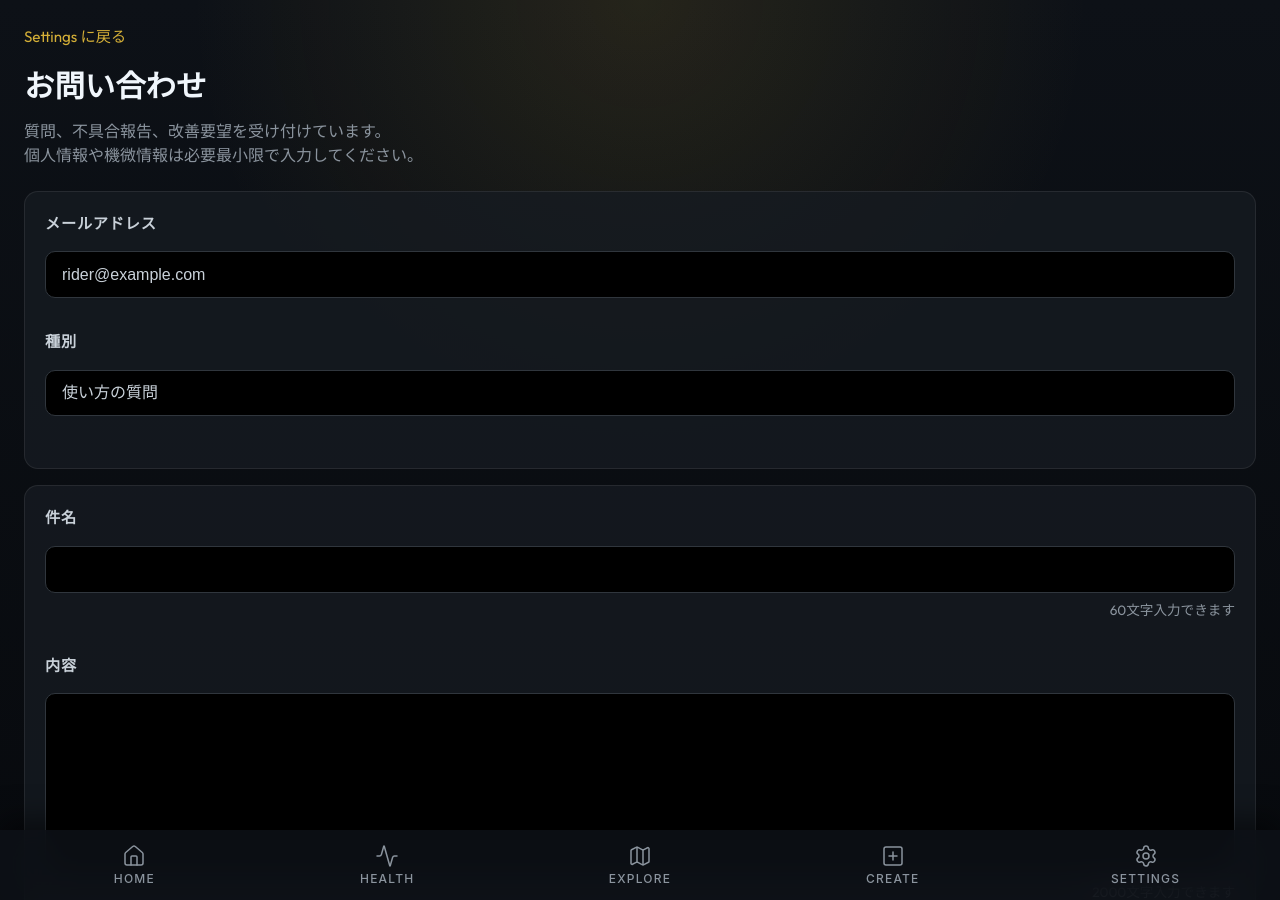
ContactPage › CP-UT-001 必須項目不足時は送信せずエラーを表示する
Clear the field labelled "メールアドレス" at (640, 275), box [45, 251, 1235, 298]
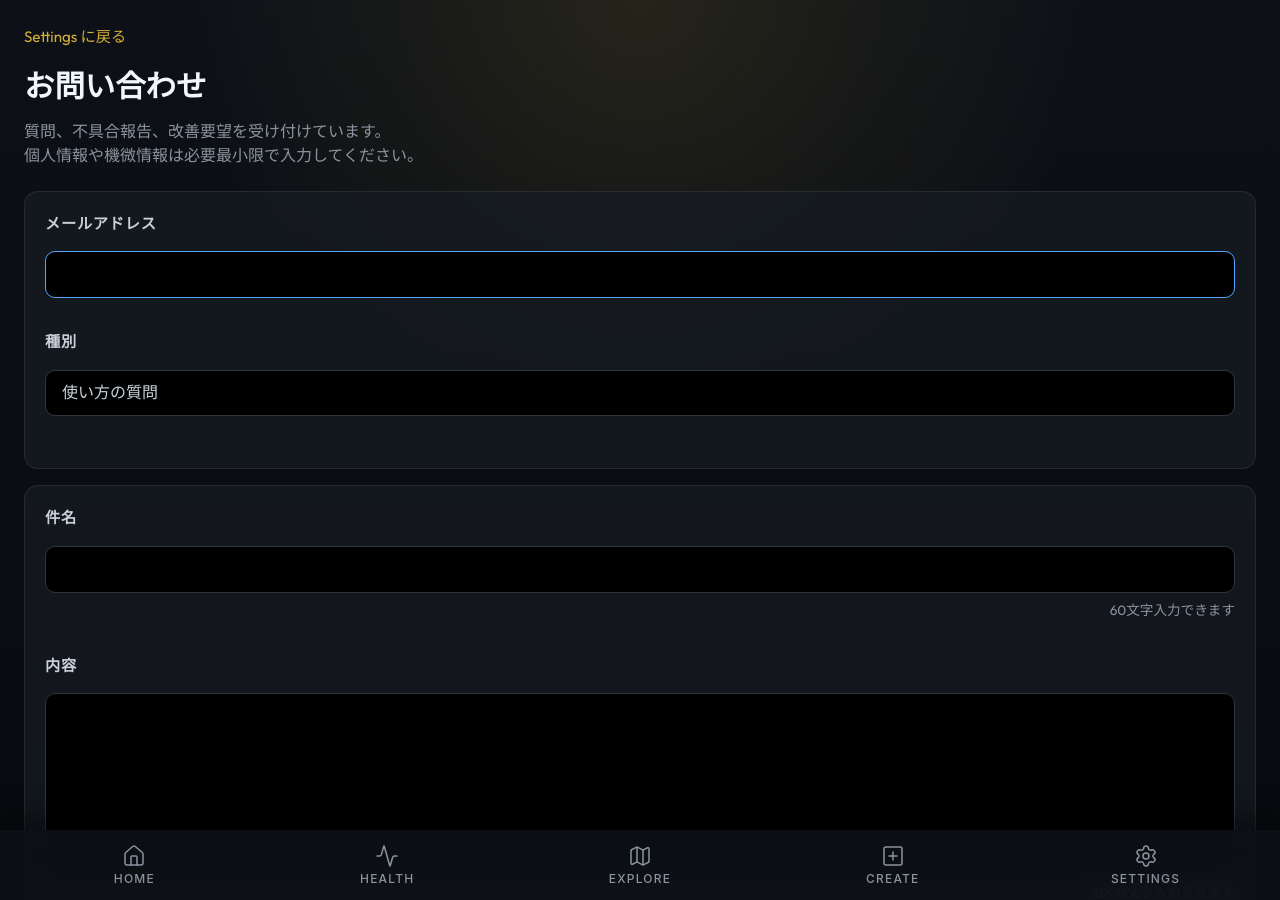
Clear the field labelled "件名" at (640, 569), box [45, 546, 1235, 593]
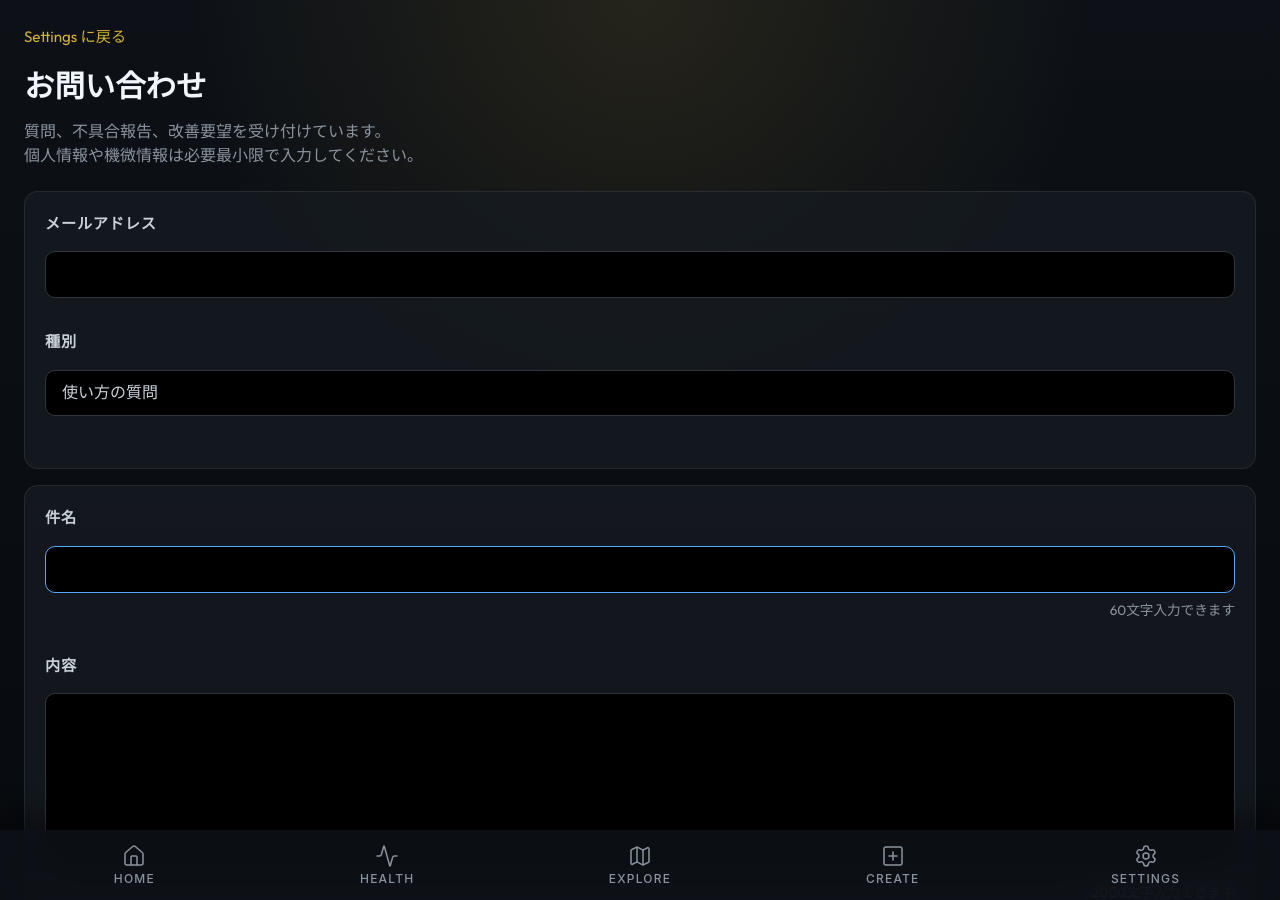
Clear the text box labelled "内容" at (640, 784), box [45, 693, 1235, 874]
(page scrolled)
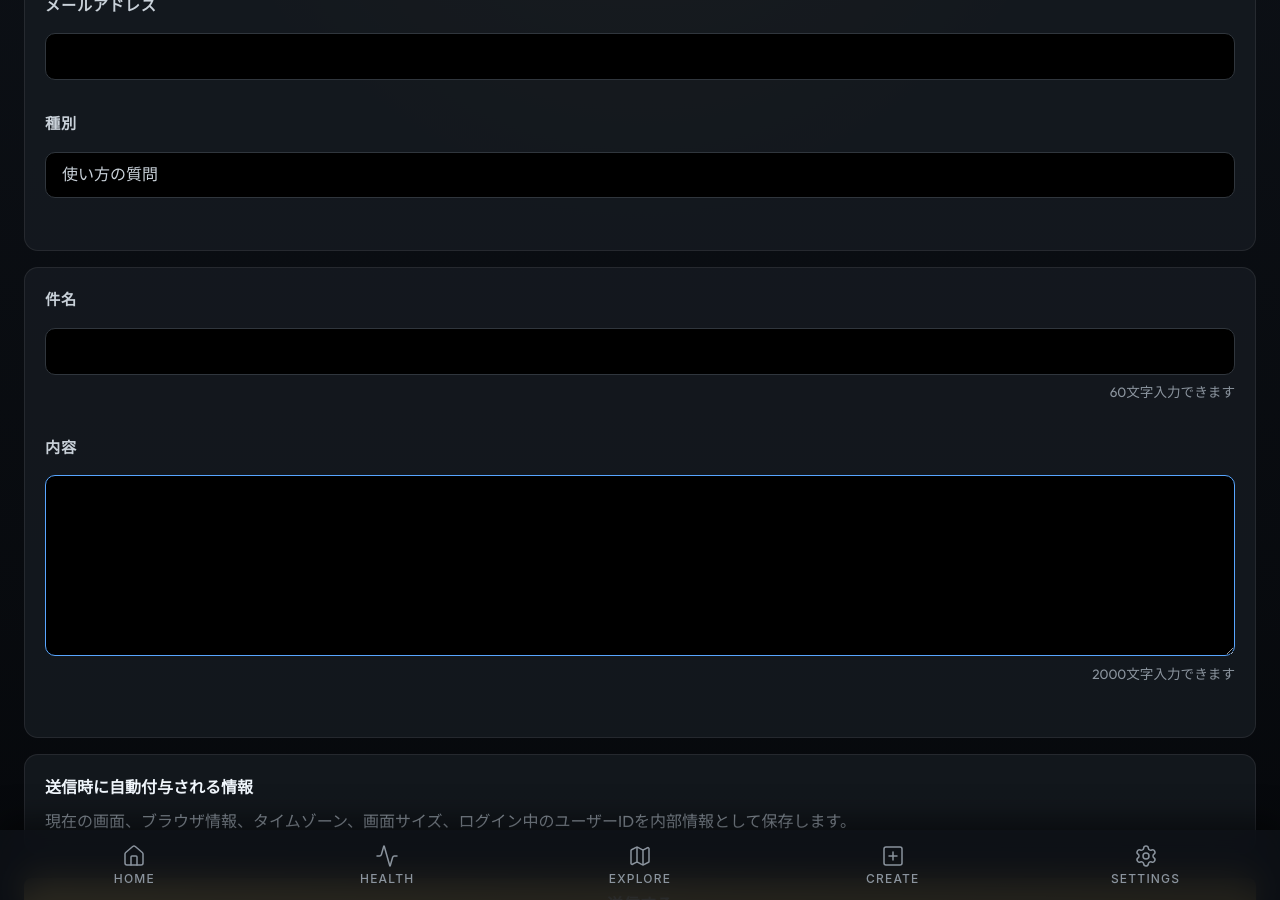
Submit the form named "送信する"
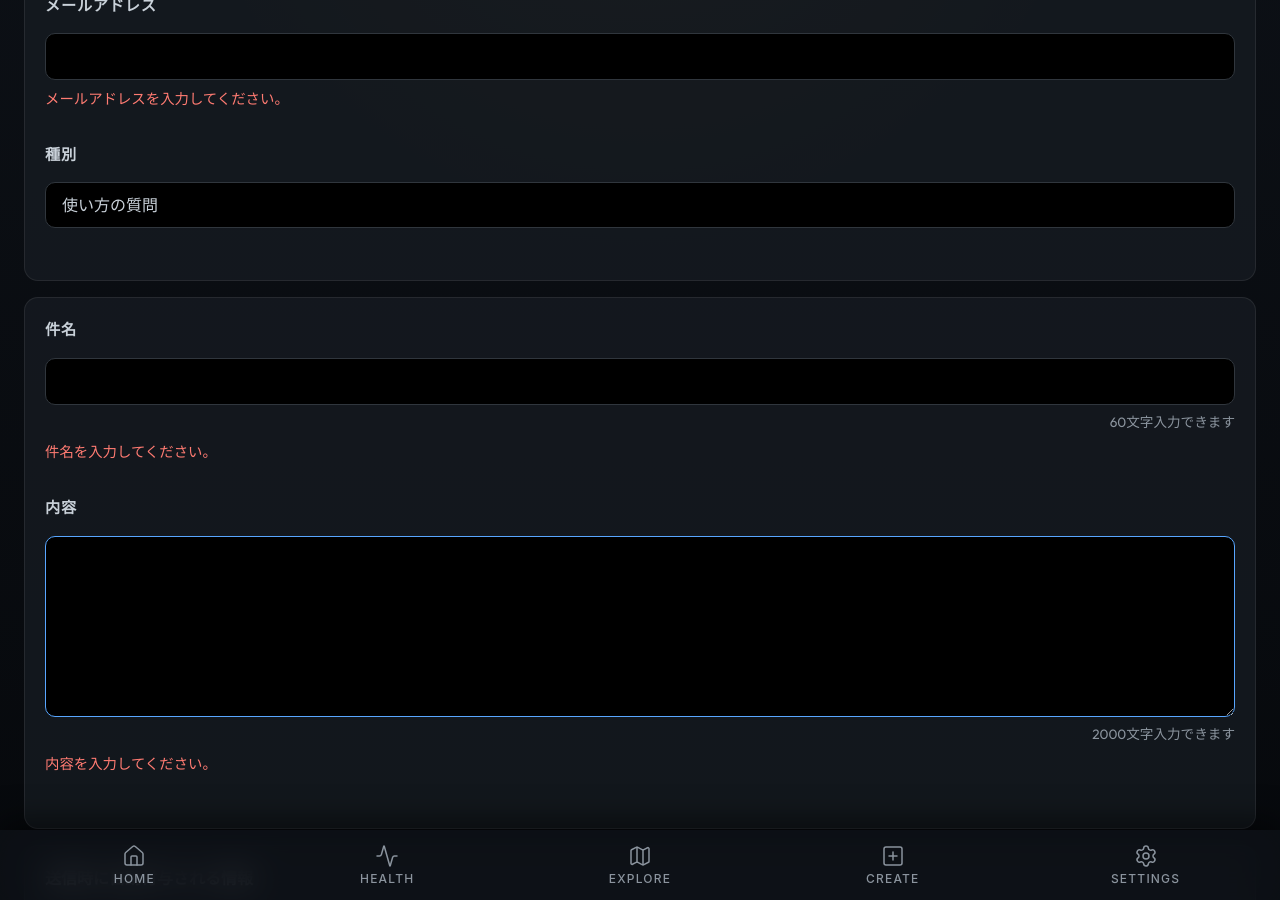
Now the text "メールアドレスを入力してください。" is shown, box [45, 90, 289, 108]
Now the text "件名を入力してください。" is shown, box [45, 443, 217, 461]
Now the text "内容を入力してください。" is shown, box [45, 755, 217, 773]
